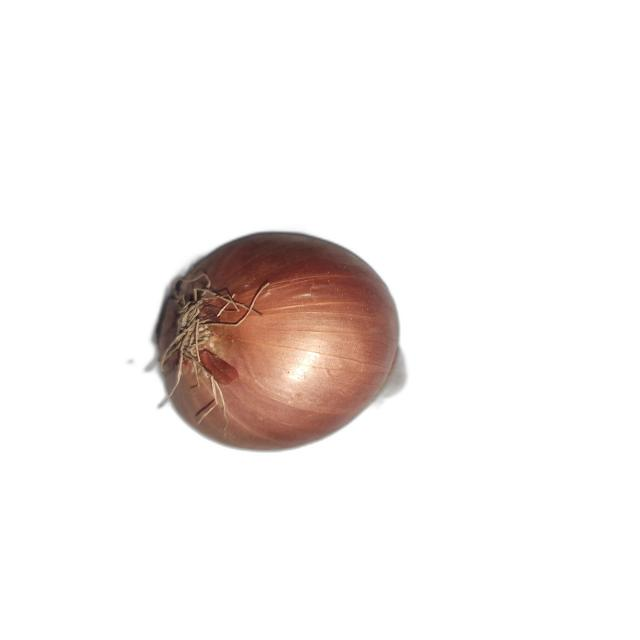onion: (150, 230, 401, 452)
